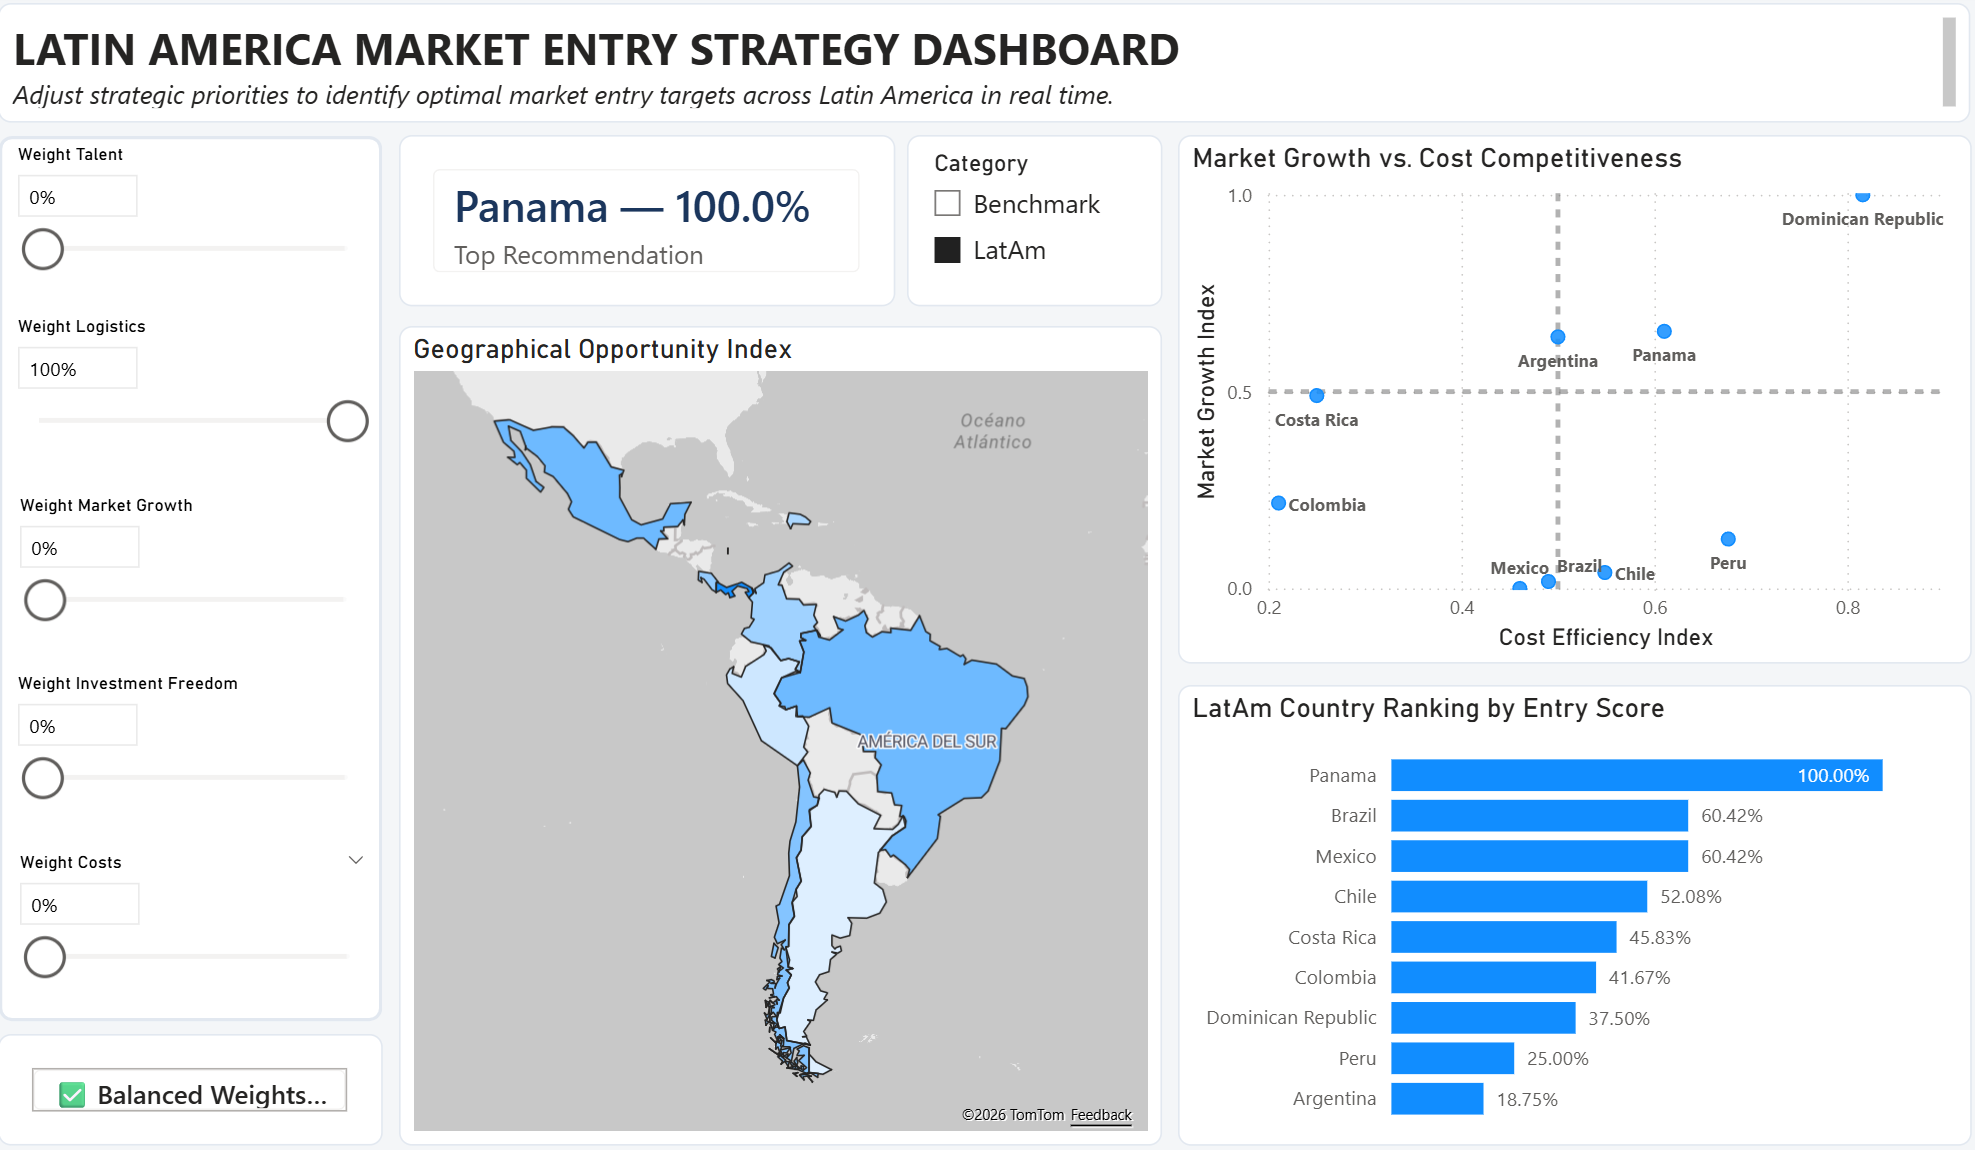

The page's visual inventory and layout, read from the dashboard file:
{"tool":"powerbi","page":{"name":"Dashboard","canvas":[1280,720],"ordinal":0},"visuals":[{"type":"shape","box":[11.7,87.2,237.1,547.5],"z":0},{"type":"slicer","fields":{"Values":["Weight Talent.Weight Talent"]},"box":[10.6,87.2,238.1,110.6],"z":1000},{"type":"slicer","fields":{"Values":["Weight Logistics.Weight Logistics"]},"box":[10.6,193.5,238.1,110.6],"z":2000},{"type":"slicer","fields":{"Values":["Weight Market Growth.Weight Market Growth"]},"box":[11.7,304.1,236,110.6],"z":3000},{"type":"slicer","fields":{"Values":["Weight Investment Freedom.Weight Investment Freedom"]},"box":[10.6,414.6,238.1,110.6],"z":4000},{"type":"slicer","fields":{"Values":["Weight Costs.Weight Costs"]},"box":[11.7,525.2,238.1,110.6],"z":5000},{"type":"clusteredBarChart","title":"LatAm Country Ranking by Entry Score","fields":{"Category":["Market_Entry_Database.Country"],"Y":["Market_Entry_Database.Final_Entry_Score"]},"box":[740.7,426.7,490.7,285.1],"z":6000},{"type":"cardVisual","fields":{"Data":["Market_Entry_Database.Slicer_Warning"]},"box":[11.1,642.6,237.5,69.4],"z":7000},{"type":"slicer","fields":{"Values":["Market_Entry_Database.Category"]},"box":[573.4,86.8,158.1,106.4],"z":8000},{"type":"scatterChart","title":"Market Growth vs. Cost Competitiveness","fields":{"X":["Market_Entry_Database.Norm_Total_Costs"],"Y":["Market_Entry_Database.Norm_Market_Growth"],"Category":["Market_Entry_Database.Country"],"Series":["Market_Entry_Database.Category"]},"box":[740.7,86.8,490.7,327.5],"z":9000},{"type":"textbox","box":[11.1,5.2,1220.4,73.9],"z":10000},{"type":"azureMap","title":"Geographical Opportunity Index","fields":{"Category":["Market_Entry_Database.Country"]},"box":[259.3,204.6,472.1,507.2],"z":11000},{"type":"cardVisual","fields":{"Data":["Market_Entry_Database.Top_Country_KPI"]},"box":[259.3,86.8,306.8,106.4],"z":12000}]}

Visuals, with their boxes on the page's 1280x720 design canvas (x1, y1, x2, y2). These are canvas units, not pixel positions in the 1975x1150 screenshot, which may show the page scaled, cropped or inside an application window:
shape: <region>12, 87, 249, 635</region>
slicer - Weight Talent.Weight Talent: <region>11, 87, 249, 198</region>
slicer - Weight Logistics.Weight Logistics: <region>11, 194, 249, 304</region>
slicer - Weight Market Growth.Weight Market Growth: <region>12, 304, 248, 415</region>
slicer - Weight Investment Freedom.Weight Investment Freedom: <region>11, 415, 249, 525</region>
slicer - Weight Costs.Weight Costs: <region>12, 525, 250, 636</region>
"LatAm Country Ranking by Entry Score" clusteredBarChart: <region>741, 427, 1231, 712</region>
cardVisual - Market_Entry_Database.Slicer_Warning: <region>11, 643, 249, 712</region>
slicer - Market_Entry_Database.Category: <region>573, 87, 732, 193</region>
"Market Growth vs. Cost Competitiveness" scatterChart: <region>741, 87, 1231, 414</region>
textbox: <region>11, 5, 1232, 79</region>
"Geographical Opportunity Index" azureMap: <region>259, 205, 731, 712</region>
cardVisual - Market_Entry_Database.Top_Country_KPI: <region>259, 87, 566, 193</region>
